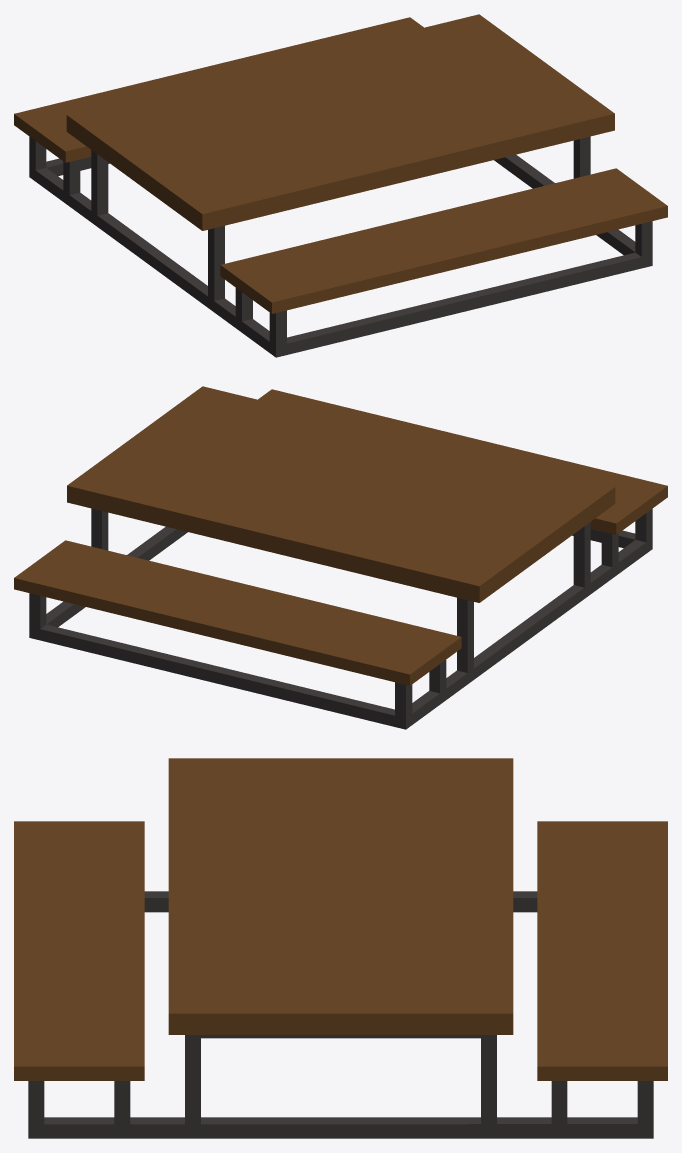
Rendered from YemekhaneMasasi.fbx.
The picture shows the model from 3 angles, top to bottom: view 1: azimuth 30°, elevation 25°; view 2: azimuth 150°, elevation 25°; view 3: azimuth 270°, elevation 25°; orthographic projection. The views are drawn at different scales.
Visible parts, largest first — view 1: yemekhane masaları; view 2: yemekhane masaları; view 3: yemekhane masaları.
Boxes of the visible parts, x1,y1,x2,y2 form: yemekhane masaları: [14, 14, 667, 357]; yemekhane masaları: [14, 386, 667, 729]; yemekhane masaları: [14, 758, 667, 1138].
Size of the model in its own units: 387 by 96.19 by 419.
